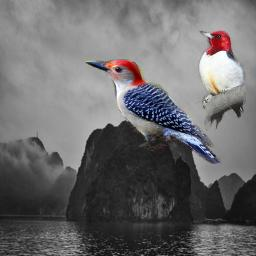Woodpecker: (85, 59, 221, 164), (196, 30, 247, 133)
